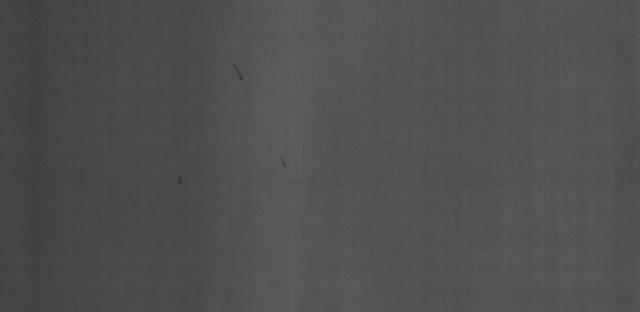water_spot: (214, 56, 246, 87), (159, 170, 190, 189), (271, 154, 295, 173)
